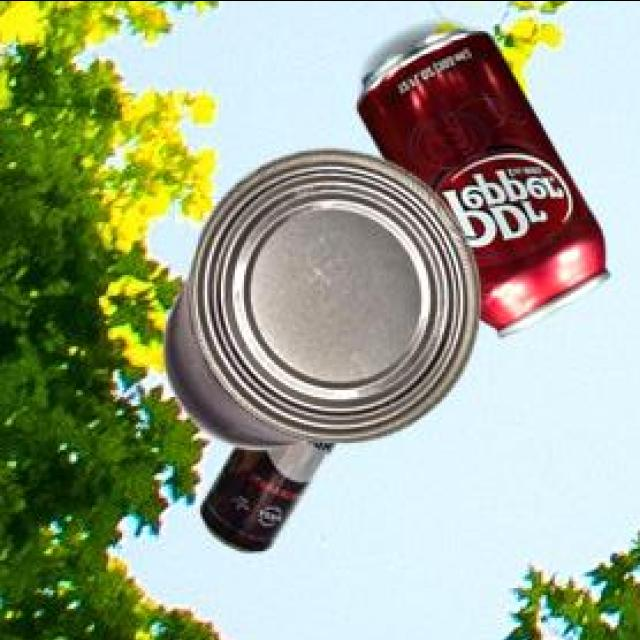logam: (167, 153, 485, 452), (360, 33, 614, 340), (204, 443, 340, 554)
